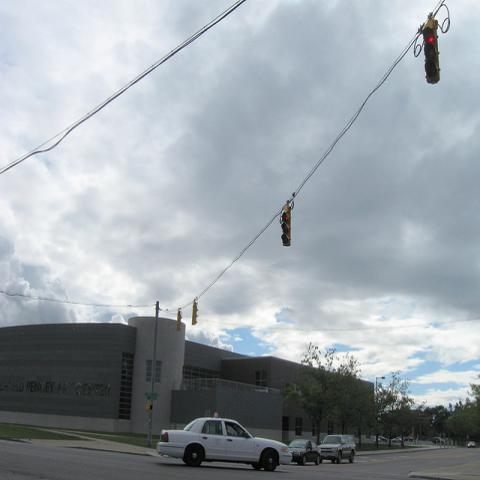car: (153, 412, 292, 470), (289, 439, 322, 466), (432, 437, 444, 444), (392, 436, 402, 444), (378, 436, 388, 442), (468, 442, 476, 449), (404, 437, 414, 442), (374, 435, 380, 443)
truck: (317, 434, 356, 464)
